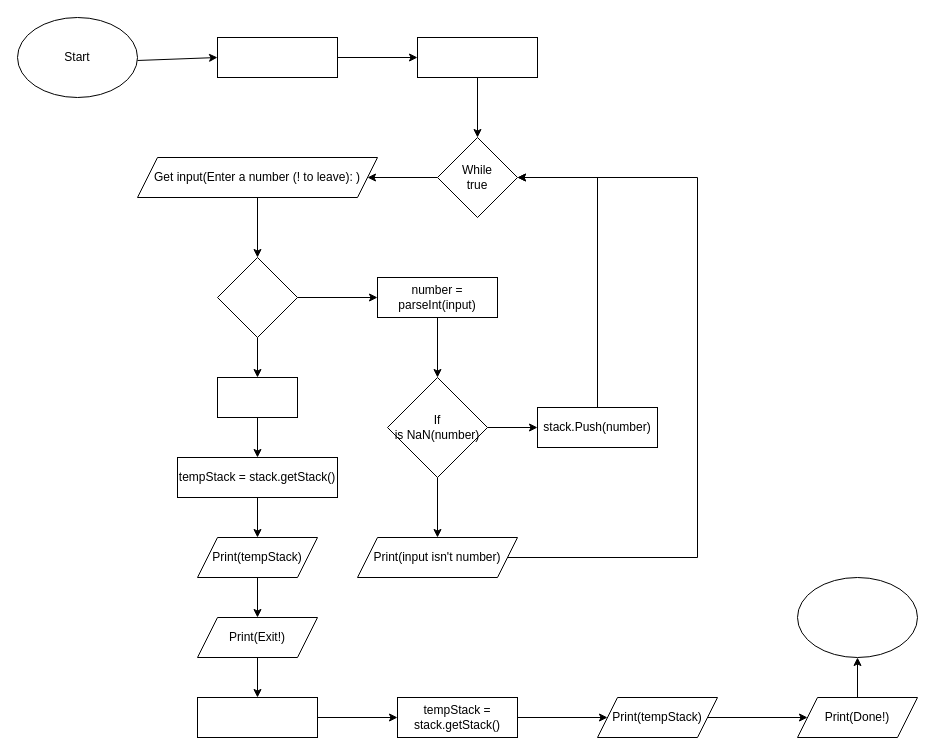
Some shapes in this 935 by 755 pixel diagram are drawn without their labels. Each missing label, with the box of its shape:
Break: (216, 376, 298, 418)
If input = !: (216, 256, 298, 338)
prompt = promptSync(): (216, 36, 338, 78)
stack = new SecondStack(): (416, 36, 538, 78)
stack.popNumber(): (196, 696, 318, 738)
Stop: (796, 576, 918, 658)
